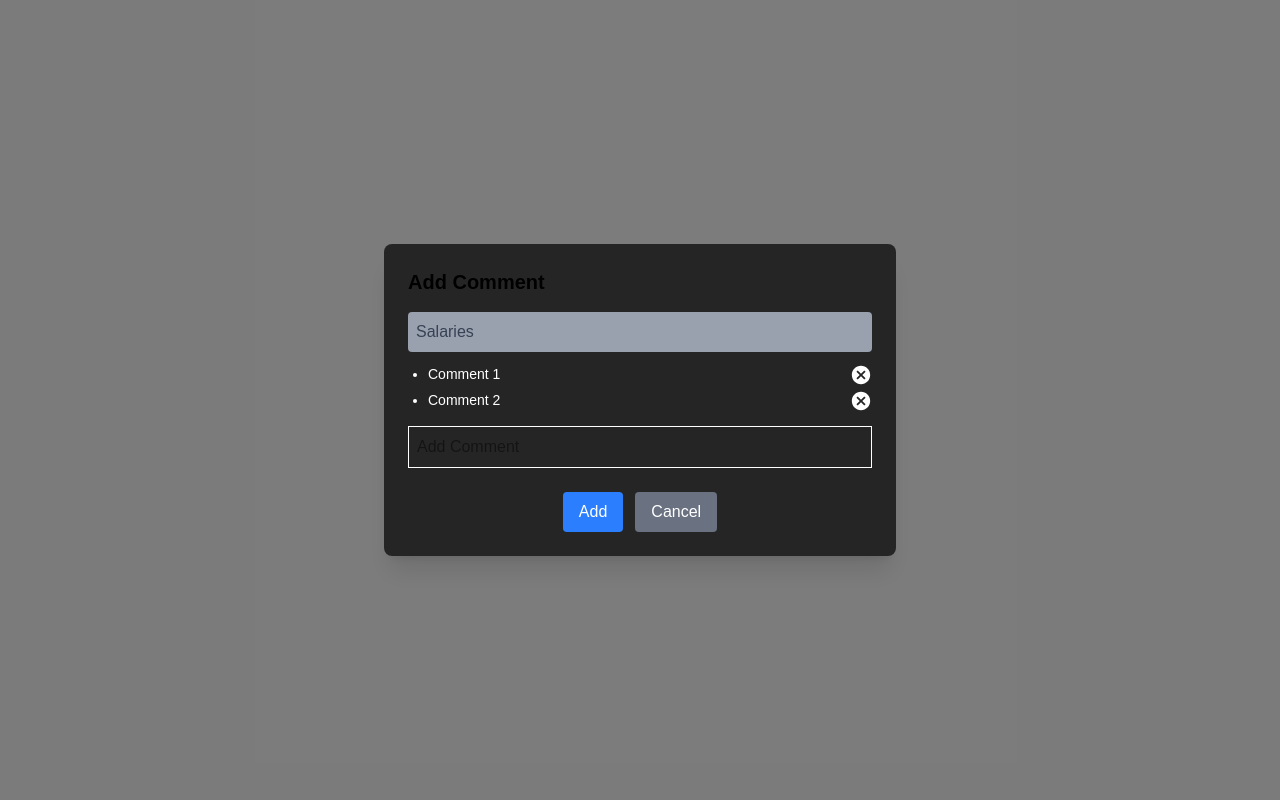
Test: AddComment Component › shows validation error when Add clicked with empty comment
The image size is (1280, 800).
What coordinates should you click on to do the following:
click the button "Add"
I would click on:
 (593, 512)
Its box is [563, 492, 623, 532].
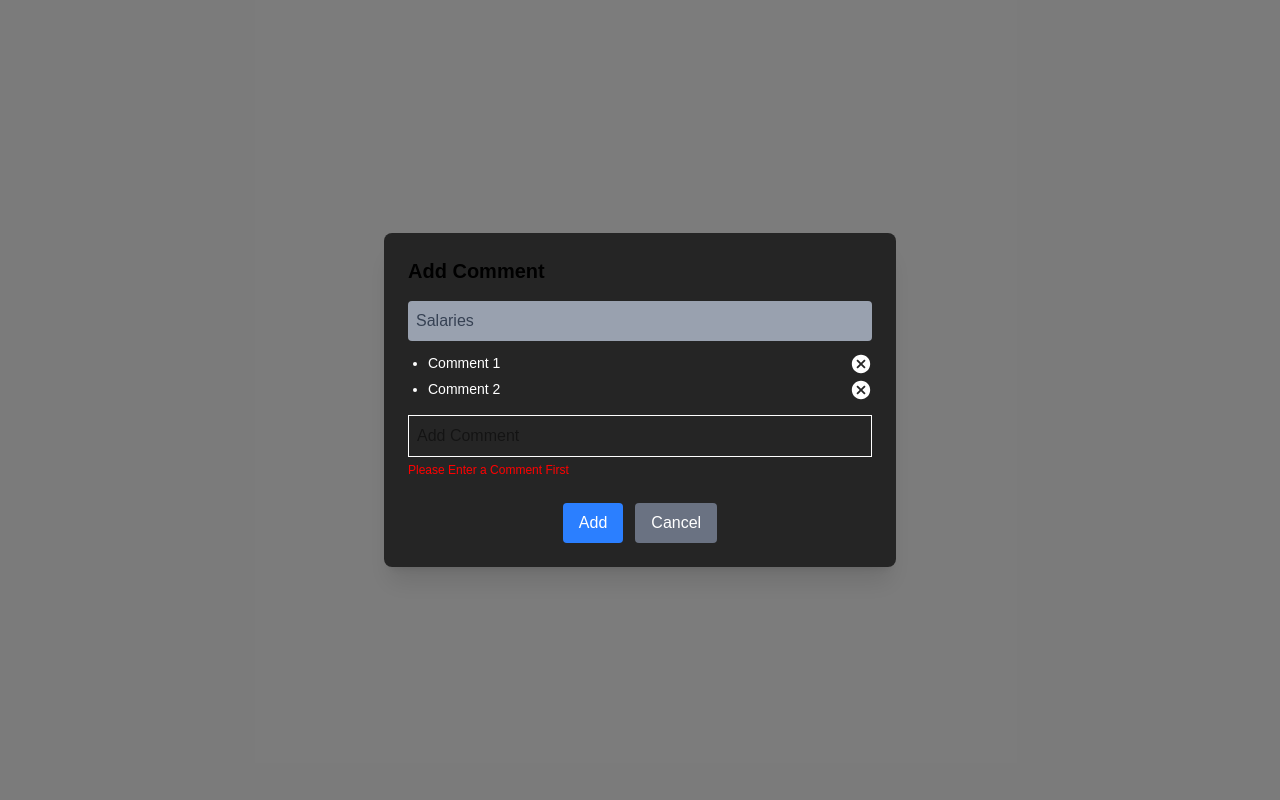
Expected: the text "Please Enter a Comment First" is shown, [408, 463, 569, 477]
